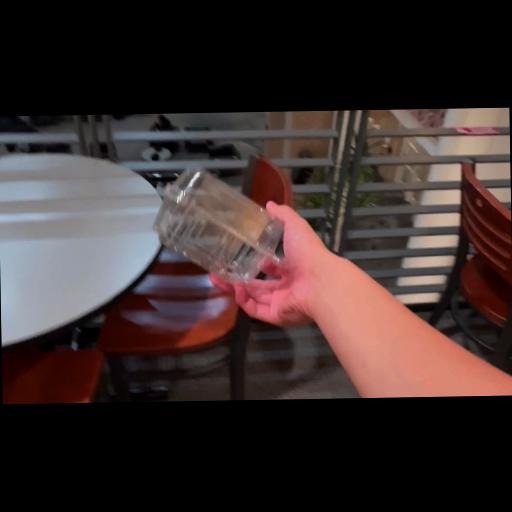small_plastic_container: (150, 162, 288, 290)
